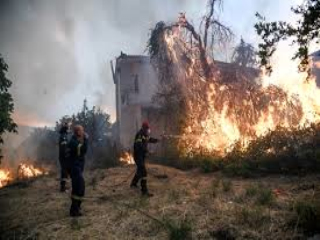fire: (167, 20, 318, 160)
